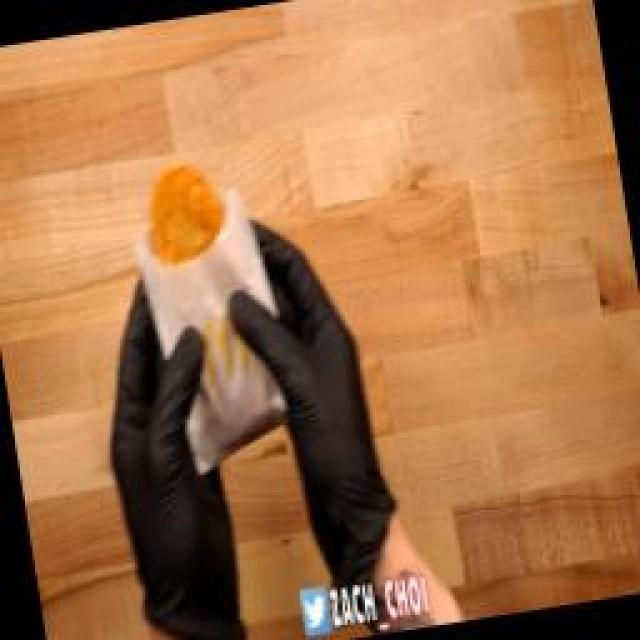Hashbrown: (125, 135, 250, 288)
